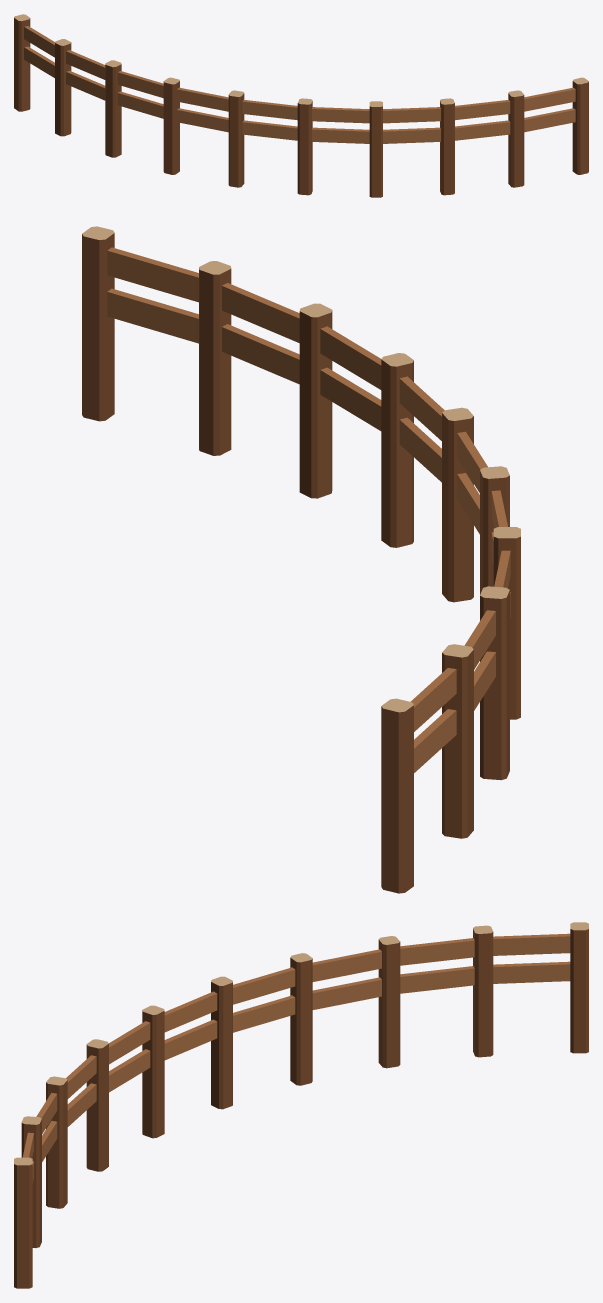
Rendered from Prop_Decorative_Fence_Curve_5x5.obj.
The picture shows the model from 3 angles, top to bottom: view 1: azimuth 30°, elevation 25°; view 2: azimuth 150°, elevation 25°; view 3: azimuth 270°, elevation 25°; orthographic projection. The views are drawn at different scales.
Parts seen in each view (by area): view 1: Fence_Post_Side, Fence_Rail, Fence_Post_Top; view 2: Fence_Post_Side, Fence_Rail, Fence_Post_Top; view 3: Fence_Post_Side, Fence_Rail, Fence_Post_Top.
Part boxes in pixels (<box>): Fence_Post_Side: <box>14,18,588,197</box>; Fence_Rail: <box>24,26,575,143</box>; Fence_Post_Top: <box>14,14,588,106</box>; Fence_Post_Side: <box>82,233,520,893</box>; Fence_Rail: <box>107,247,510,772</box>; Fence_Post_Top: <box>82,226,520,712</box>; Fence_Post_Side: <box>14,929,588,1288</box>; Fence_Rail: <box>22,933,570,1182</box>; Fence_Post_Top: <box>14,922,588,1165</box>.
Size of the model in its own units: 4.65 by 1.1 by 4.65.
